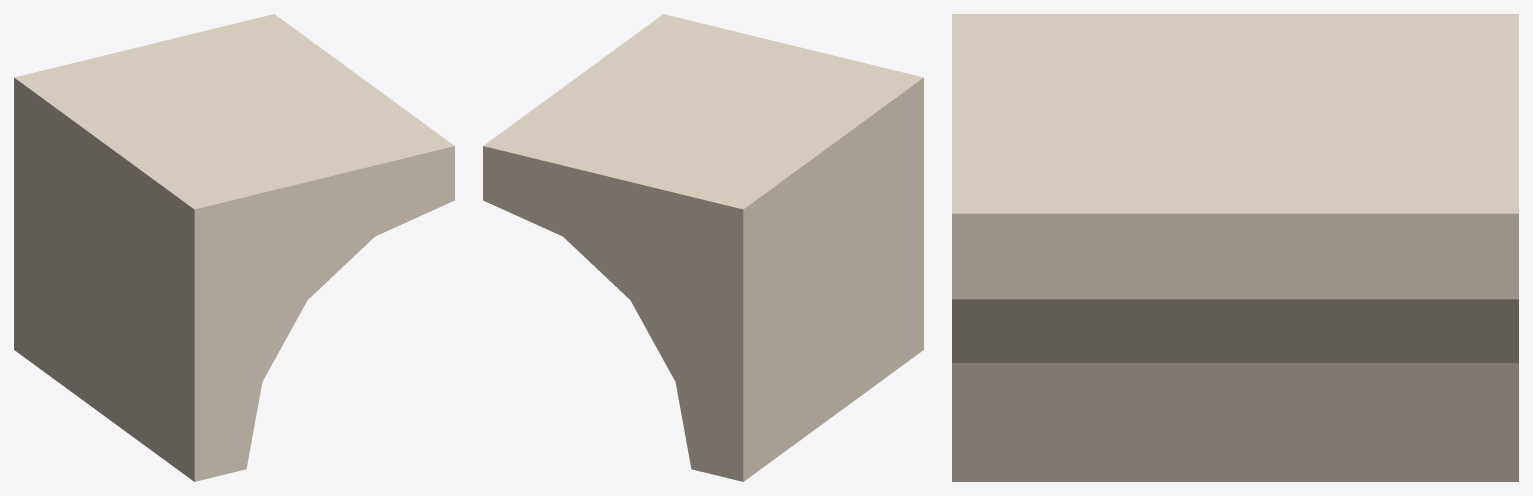
The model's file is Wall_Straight_Arch_Top.glb.
3 renders of one model, left to right at view 1: azimuth 30°, elevation 25°; view 2: azimuth 150°, elevation 25°; view 3: azimuth 270°, elevation 25°, orthographic. The views are drawn at different scales.
Parts seen in each view (by area): view 1: Wall_Straight_Arch_Top; view 2: Wall_Straight_Arch_Top; view 3: Wall_Straight_Arch_Top.
Part boxes in pixels (x1=…): Wall_Straight_Arch_Top: x1=14, y1=14, x2=454, y2=481; Wall_Straight_Arch_Top: x1=483, y1=14, x2=923, y2=481; Wall_Straight_Arch_Top: x1=952, y1=14, x2=1518, y2=481.
Bounding box in the file's own units: 1 × 1 × 1.2.
